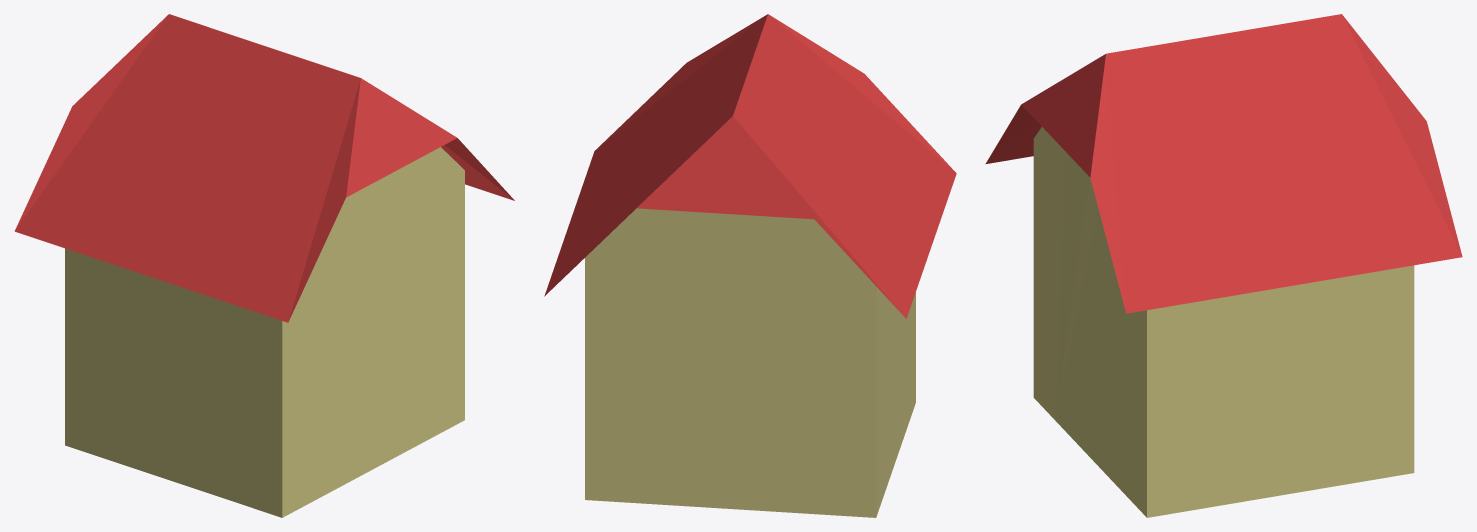
3 renders of one model, left to right at view 1: azimuth 30°, elevation 25°; view 2: azimuth 150°, elevation 25°; view 3: azimuth 270°, elevation 25°, orthographic. The views are drawn at different scales.
Parts seen in each view (by area): view 1: group_5, group_3, group_4; view 2: group_5, group_3, group_4; view 3: group_3, group_5, group_4.
Boxes of the visible parts, x1,y1,x2,y2 form: group_5: (65,147,464,517); group_3: (15,14,456,322); group_4: (14,43,514,321); group_5: (585,208,915,517); group_3: (544,14,956,317); group_4: (567,84,955,318); group_3: (986,14,1462,313); group_5: (1033,127,1414,517); group_4: (985,90,1461,254).
Size of the model in its own units: 13.07 by 12.8 by 11.88.
